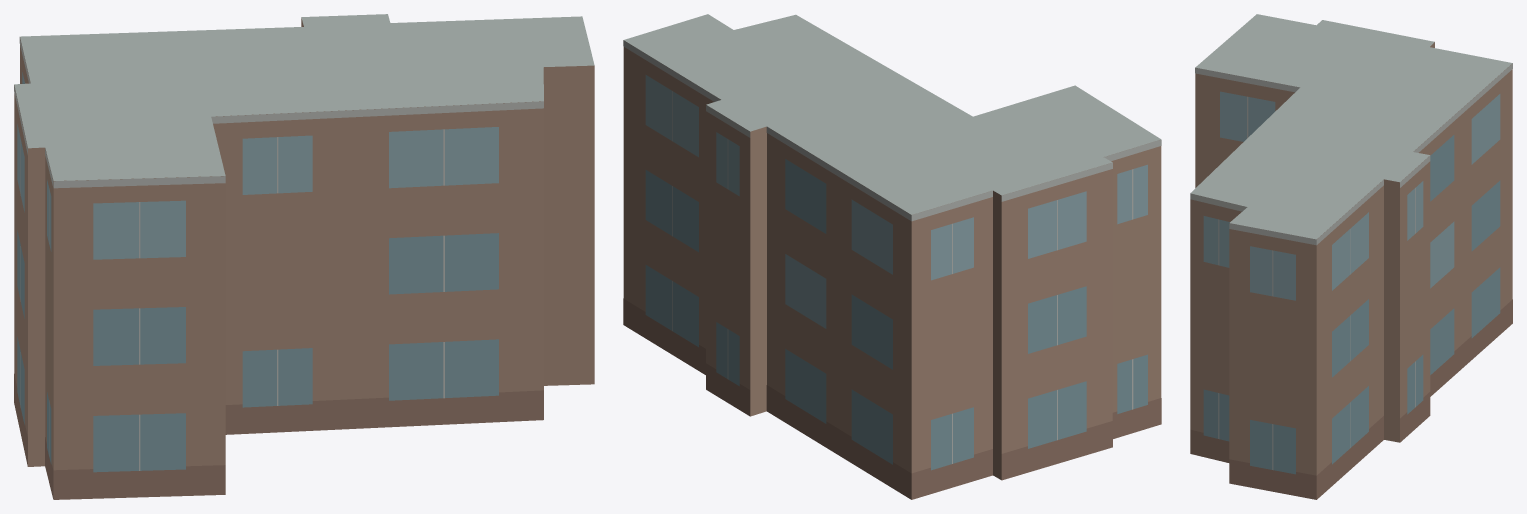
The model's file is survey-upis-33020229.glb.
3 views of the same model, side by side, from view 1: azimuth 30°, elevation 25°; view 2: azimuth 150°, elevation 25°; view 3: azimuth 270°, elevation 25° (orthographic). The views are drawn at different scales.
Visible parts, largest first — view 1: survey-upis-33020229.tmp; view 2: survey-upis-33020229.tmp; view 3: survey-upis-33020229.tmp.
Part boxes in pixels (x1,y1,x2,y2): survey-upis-33020229.tmp: (14, 14, 594, 499); survey-upis-33020229.tmp: (623, 14, 1161, 499); survey-upis-33020229.tmp: (1190, 14, 1512, 499).
Size of the model in its own units: 20.06 by 10.8 by 12.13.
